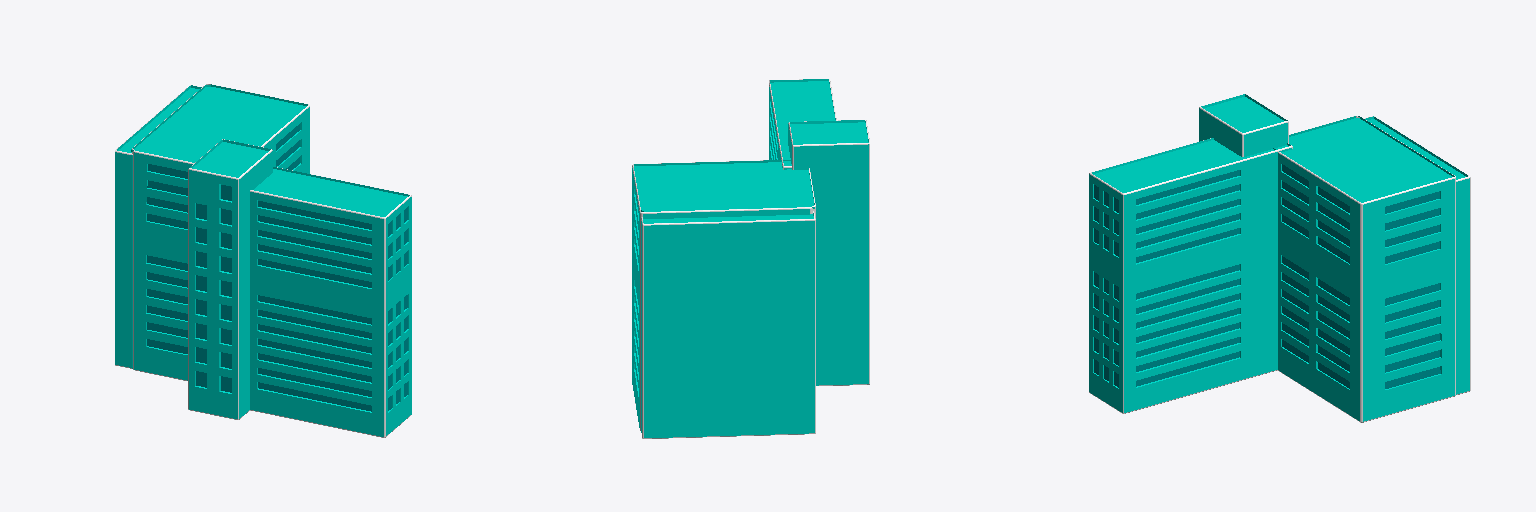
3 renders of one model, left to right at view 1: azimuth 30°, elevation 25°; view 2: azimuth 150°, elevation 25°; view 3: azimuth 270°, elevation 25°, orthographic.
Visible parts, largest first — view 1: 连接, 挤压, 平滑_1.1, 立方体, 连接.1; view 2: 立方体, 连接, 平滑_1.1, 挤压, 连接.1; view 3: 连接, 挤压, 平滑_1.1, 立方体, 连接.1.
Part boxes in pixels (left/top/right/bottom): 连接: left=188, top=139, right=411, bottom=437; 挤压: left=132, top=107, right=309, bottom=380; 平滑_1.1: left=131, top=84, right=307, bottom=162; 立方体: left=115, top=85, right=201, bottom=368; 连接.1: left=254, top=169, right=407, bottom=216; 立方体: left=641, top=211, right=815, bottom=438; 连接: left=769, top=79, right=869, bottom=385; 平滑_1.1: left=634, top=160, right=814, bottom=211; 挤压: left=632, top=168, right=815, bottom=430; 连接.1: left=770, top=81, right=835, bottom=165; 连接: left=1089, top=94, right=1292, bottom=413; 挤压: left=1278, top=117, right=1455, bottom=421; 平滑_1.1: left=1273, top=116, right=1452, bottom=202; 立方体: left=1365, top=116, right=1470, bottom=394; 连接.1: left=1093, top=140, right=1288, bottom=192.
Bounding box in the file's own units: 110 × 135 × 193.